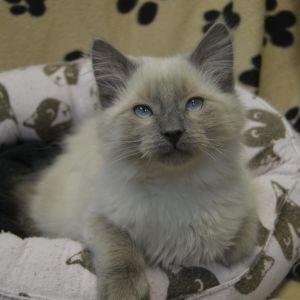siamese: (90, 22, 250, 182)
